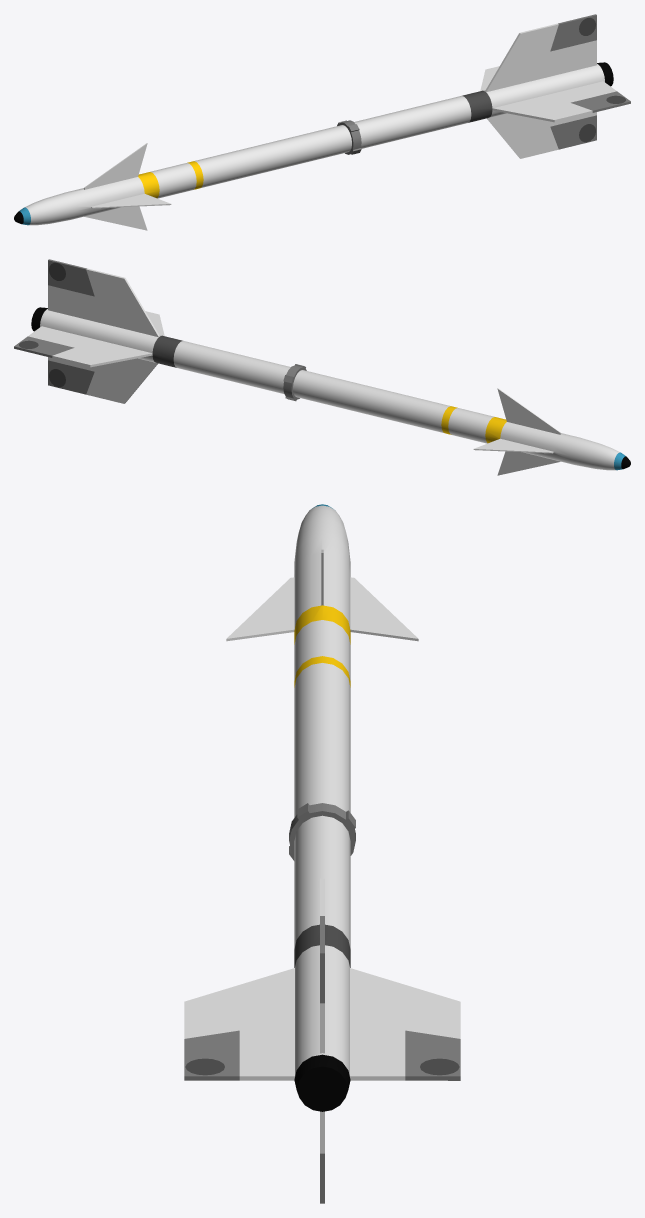
The model's file is AIM-9D.glb.
3 views of the same model, one above another, from view 1: azimuth 30°, elevation 25°; view 2: azimuth 150°, elevation 25°; view 3: azimuth 270°, elevation 25° (orthographic). The views are drawn at different scales.
Visible parts, largest first — view 1: Body; view 2: Body; view 3: Body.
Part boxes in pixels (bbox=[...]): Body: bbox=[14, 14, 630, 230]; Body: bbox=[14, 259, 630, 475]; Body: bbox=[184, 504, 460, 1203].
Size of the model in its own units: 3.1 by 0.6248 by 0.6248.
1 material, 1 textured.
